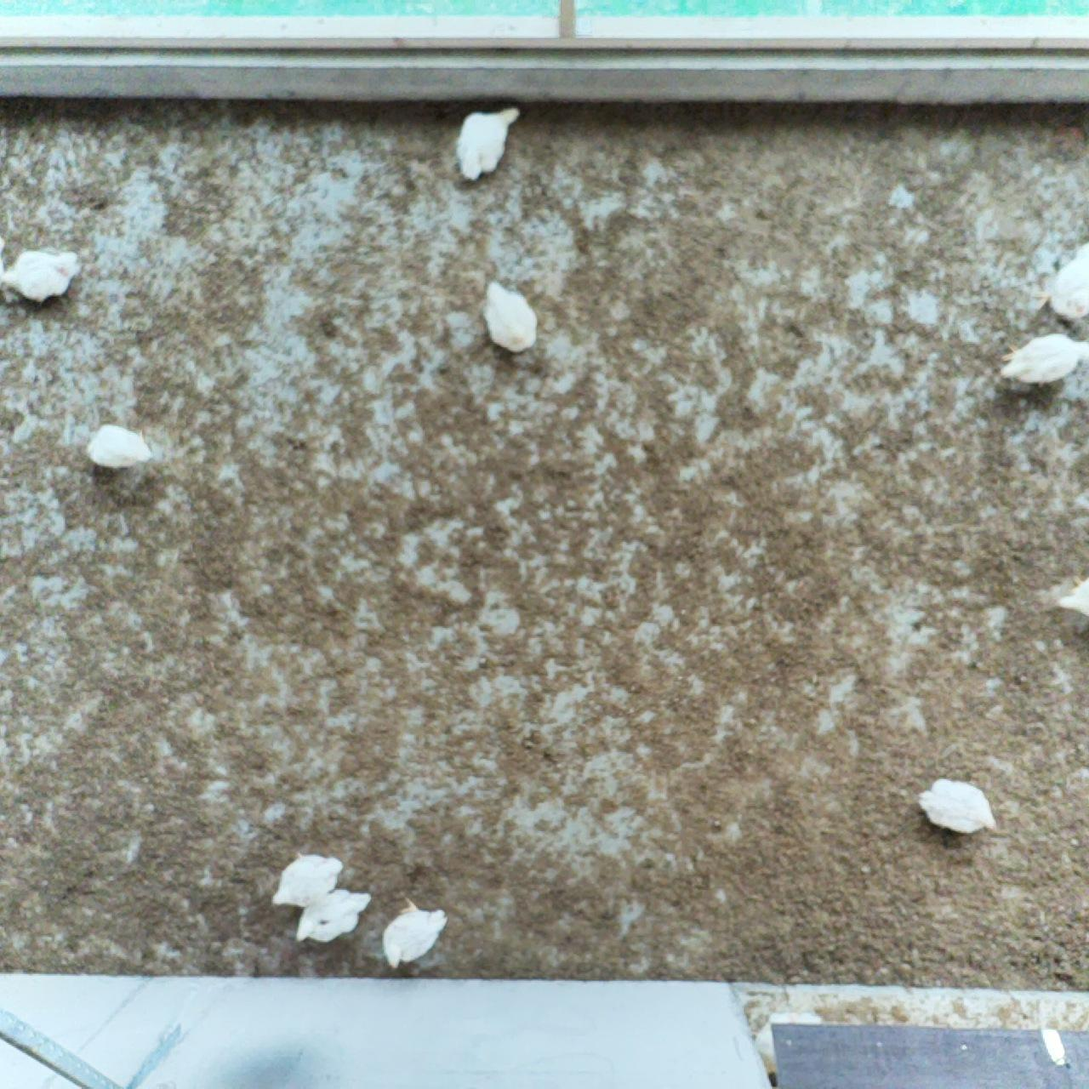chicken: (911, 770, 1001, 840), (263, 847, 352, 917), (450, 103, 523, 188), (1021, 237, 1089, 326), (376, 892, 450, 973), (995, 328, 1089, 389), (292, 883, 376, 951), (0, 245, 83, 306), (477, 275, 540, 354), (82, 420, 155, 473), (1053, 570, 1089, 622)
